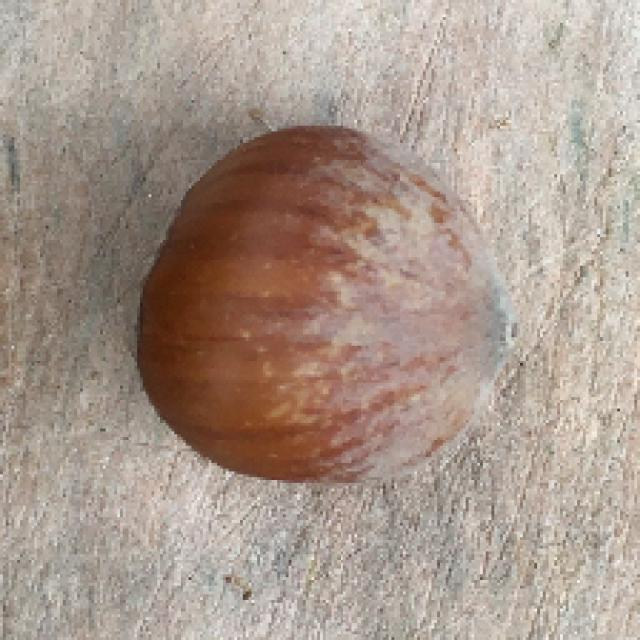qualityHazelnut: (132, 120, 528, 488)
